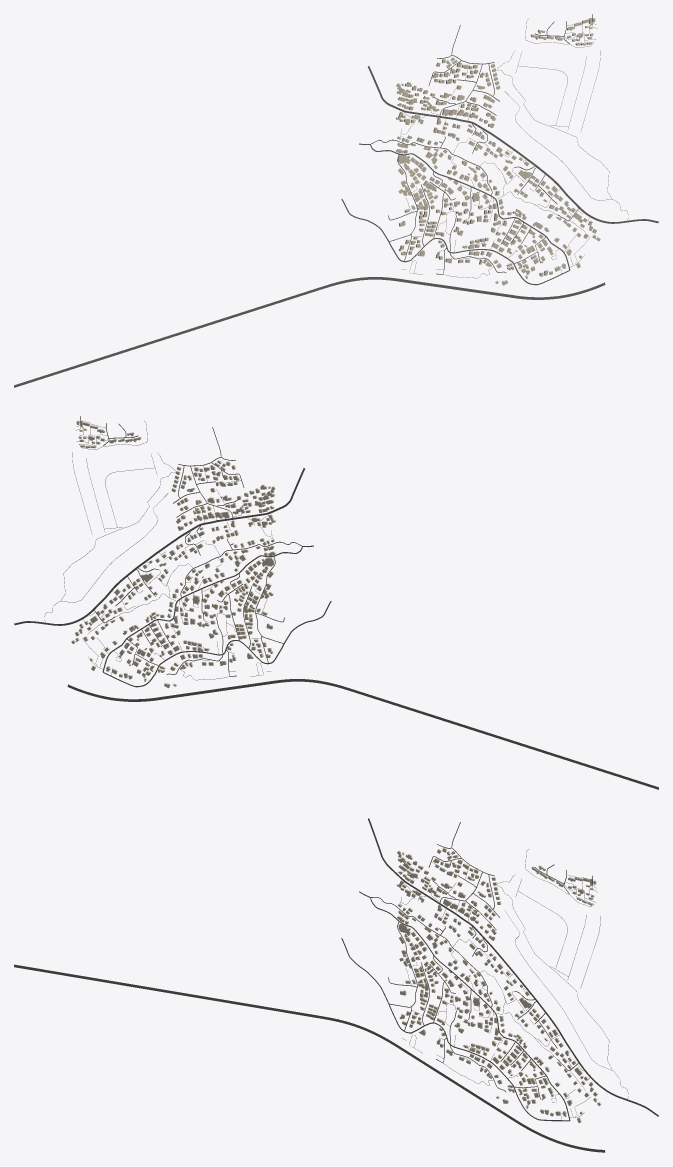
The model's file is historic-palestine-09_24_3511_3180.glb.
3 views of the same model, one above another, from view 1: azimuth 30°, elevation 25°; view 2: azimuth 150°, elevation 25°; view 3: azimuth 330°, elevation 25° (orthographic).
Visible parts, largest first — view 1: Road כביש ירושלים תל אביב, Road شارع السلام; view 2: Road כביש ירושלים תל אביב, Road شارع السلام; view 3: Road כביש ירושלים תל אביב, Road شارع السلام, Road عبد الرحمن.
Part boxes in pixels (<box>): Road כביש ירושלים תל אביב: <box>14,277,605,387</box>; Road شارع السلام: <box>368,66,658,223</box>; Road כביש ירושלים תל אביב: <box>67,679,658,789</box>; Road شارع السلام: <box>14,468,304,625</box>; Road כביש ירושלים תל אביב: <box>14,964,605,1152</box>; Road شارع السلام: <box>368,818,658,1116</box>; Road عبد الرحمن: <box>341,938,569,1121</box>.
Bounding box in the file's own units: 3070 × 1358 × 11.2.
